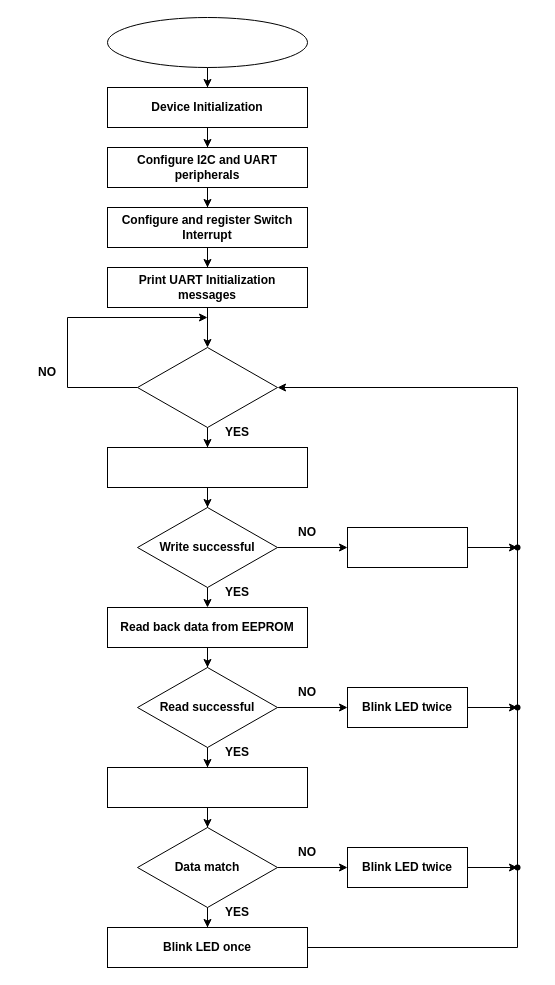
Image size: 555x985. Some labels were removed from this diagram. Each missing label, with the centre of its shape:
"Blink LED thrice" goes at [407,547].
"Compare data written and readback" goes at [207,787].
"START" goes at [207,42].
"Wait for Switch press" goes at [207,387].
"Write data to EEPROM" goes at [207,467].
